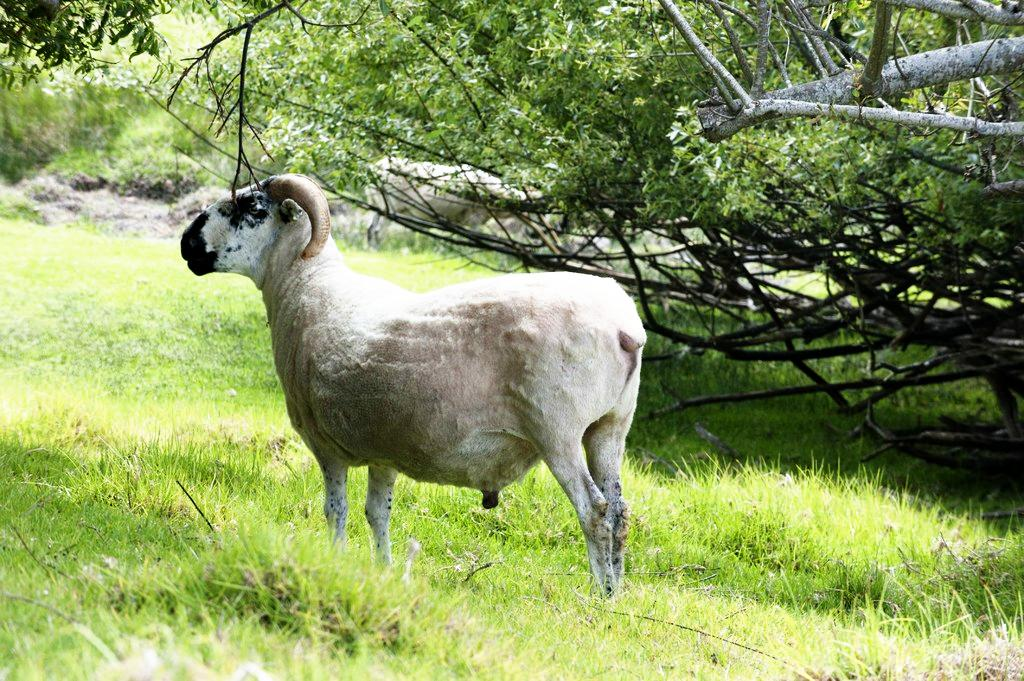Sheep: (176, 168, 656, 599)
